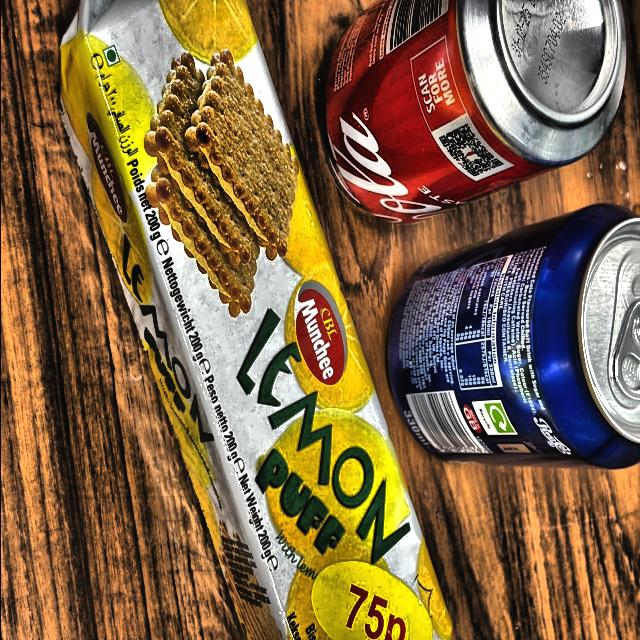coke-can: (320, 0, 624, 240)
lemon puff: (84, 10, 438, 640)
pepsi-can: (388, 214, 638, 496)
